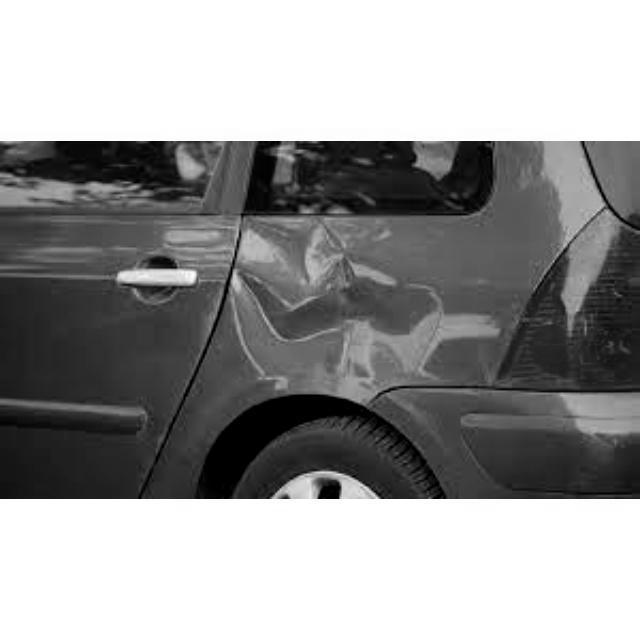quaterpanel-dent: (237, 216, 503, 450)
